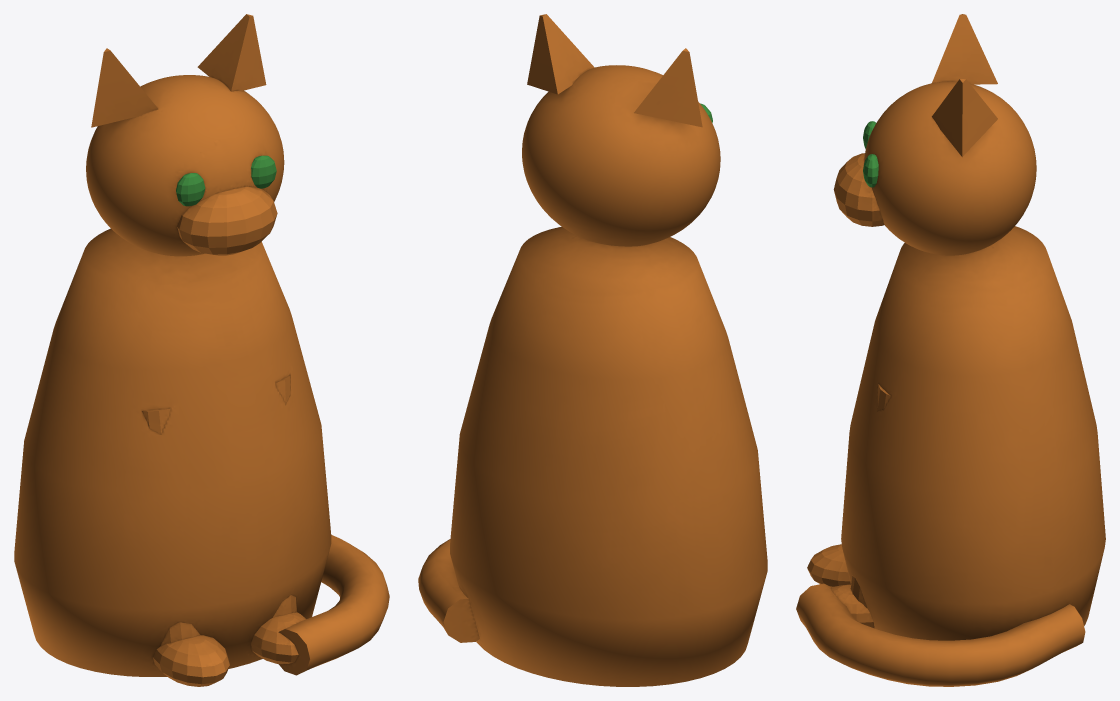
File: ginger-matte.glb
3 views of the same model, side by side, from view 1: azimuth 30°, elevation 25°; view 2: azimuth 150°, elevation 25°; view 3: azimuth 270°, elevation 25° (orthographic). The views are drawn at different scales.
Visible parts, largest first — view 1: ceramic_primary, cat_eyes; view 2: ceramic_primary; view 3: ceramic_primary, cat_eyes.
Boxes of the visible parts, left/top/right/bottom form: ceramic_primary: left=14, top=14, right=389, bottom=686; cat_eyes: left=176, top=155, right=276, bottom=206; ceramic_primary: left=418, top=14, right=767, bottom=686; ceramic_primary: left=796, top=14, right=1105, bottom=686; cat_eyes: left=863, top=121, right=878, bottom=187.
Size of the model in its own units: 0.1832 by 0.3188 by 0.1591.
2 materials, 1 textured.
